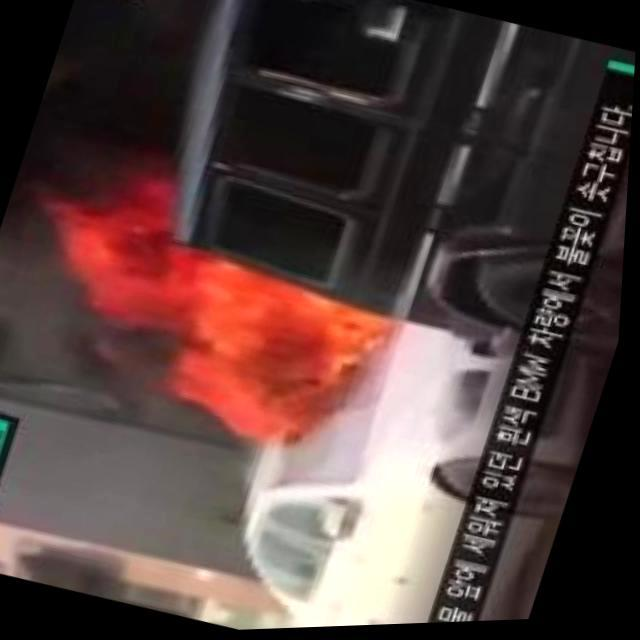fire: (39, 162, 418, 460)
